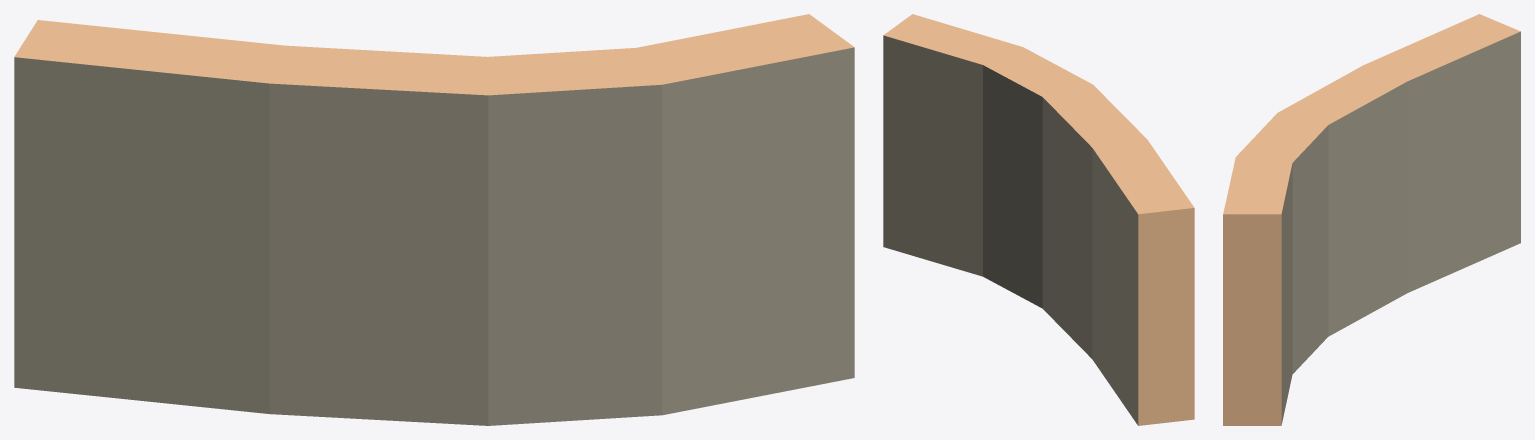
The model's file is Tiered_Retaining_Wall_45_Degrees_Curve_Inner_3x3_Mid.glb.
3 views of the same model, side by side, from view 1: azimuth 30°, elevation 25°; view 2: azimuth 150°, elevation 25°; view 3: azimuth 270°, elevation 25° (orthographic). The views are drawn at different scales.
Parts seen in each view (by area): view 1: Tiered_Retaining_Wall_45_Degrees_Curve_Inner_3x3_Mid; view 2: Tiered_Retaining_Wall_45_Degrees_Curve_Inner_3x3_Mid; view 3: Tiered_Retaining_Wall_45_Degrees_Curve_Inner_3x3_Mid.
Boxes of the visible parts, x1,y1,x2,y2 form: Tiered_Retaining_Wall_45_Degrees_Curve_Inner_3x3_Mid: (14,14,854,425); Tiered_Retaining_Wall_45_Degrees_Curve_Inner_3x3_Mid: (883,14,1194,425); Tiered_Retaining_Wall_45_Degrees_Curve_Inner_3x3_Mid: (1223,14,1520,425).
Size of the model in its own units: 203 by 100 by 127.
